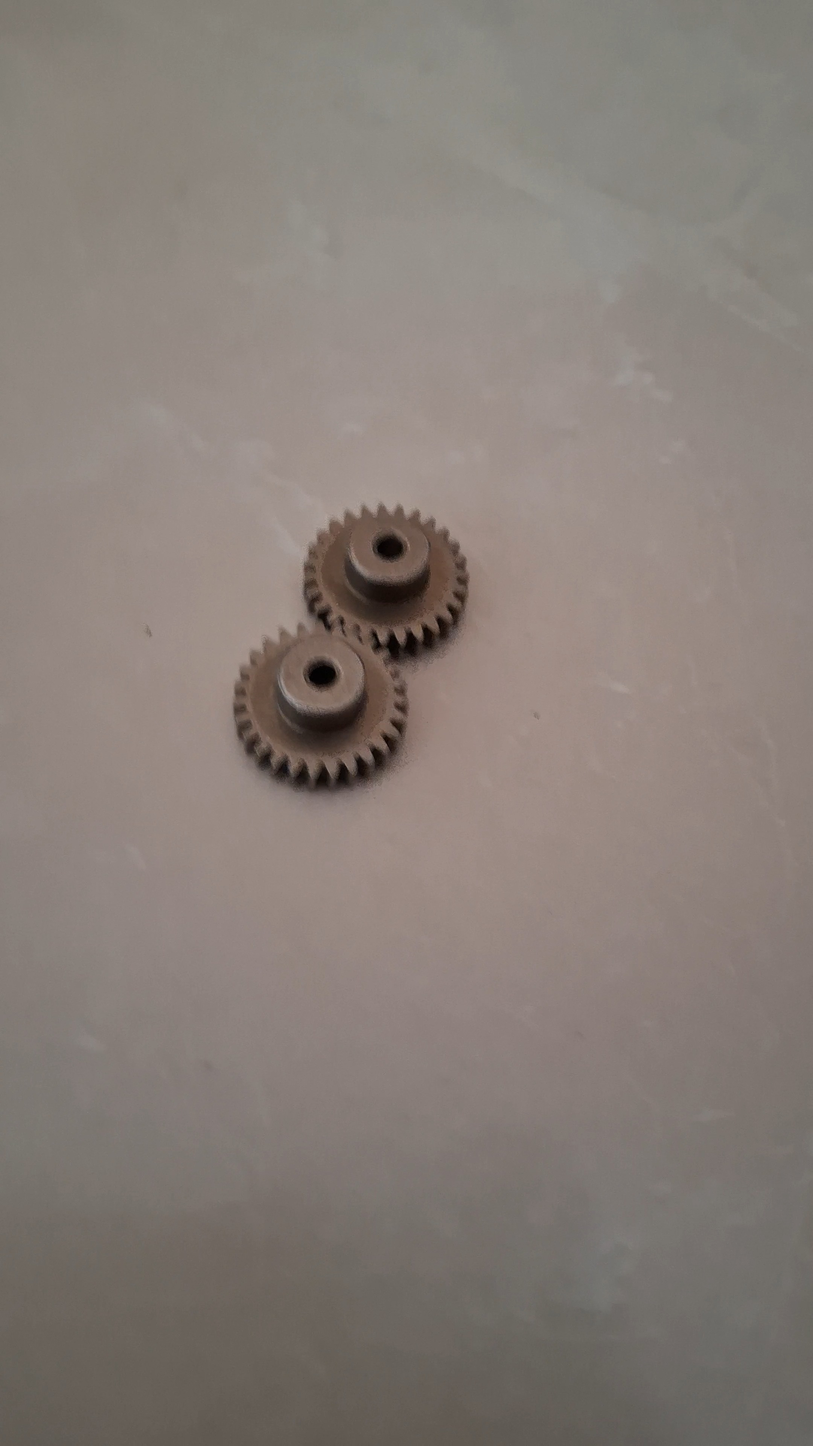spur gear: (231, 621, 404, 782), (302, 501, 466, 648)
